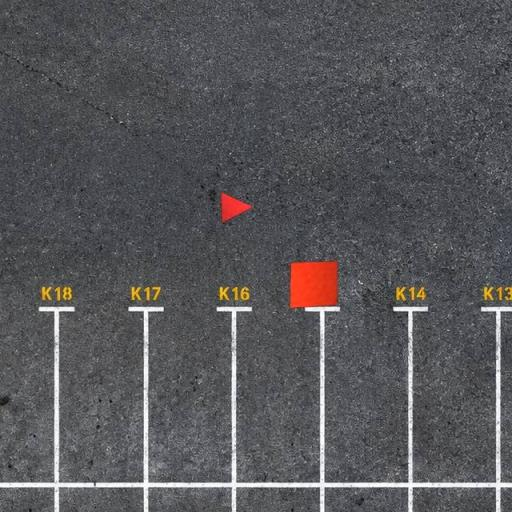RED_SQUARE: (289, 261, 338, 309)
